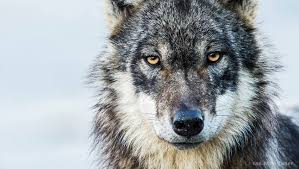wolf: (92, 1, 298, 156)
